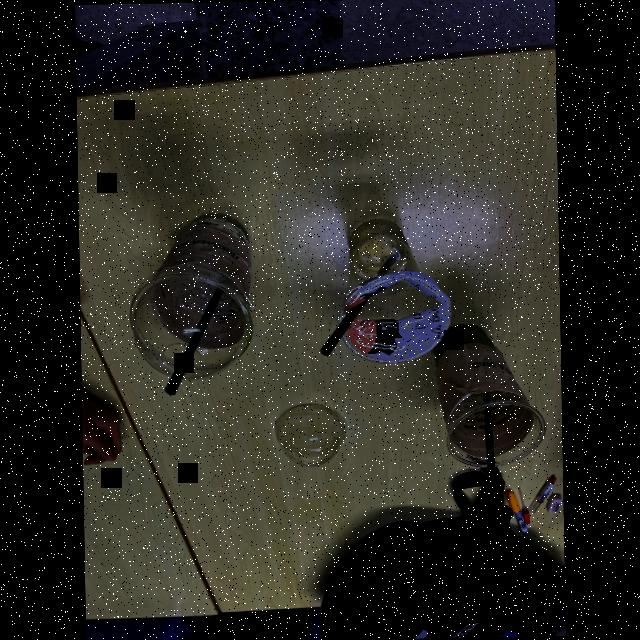plastic_cup: (124, 210, 268, 370), (426, 312, 539, 471), (339, 210, 452, 363)
plastic_cup_lid: (126, 283, 253, 392), (272, 400, 348, 468)
straw: (317, 252, 405, 358), (163, 273, 234, 399), (484, 390, 496, 497)
